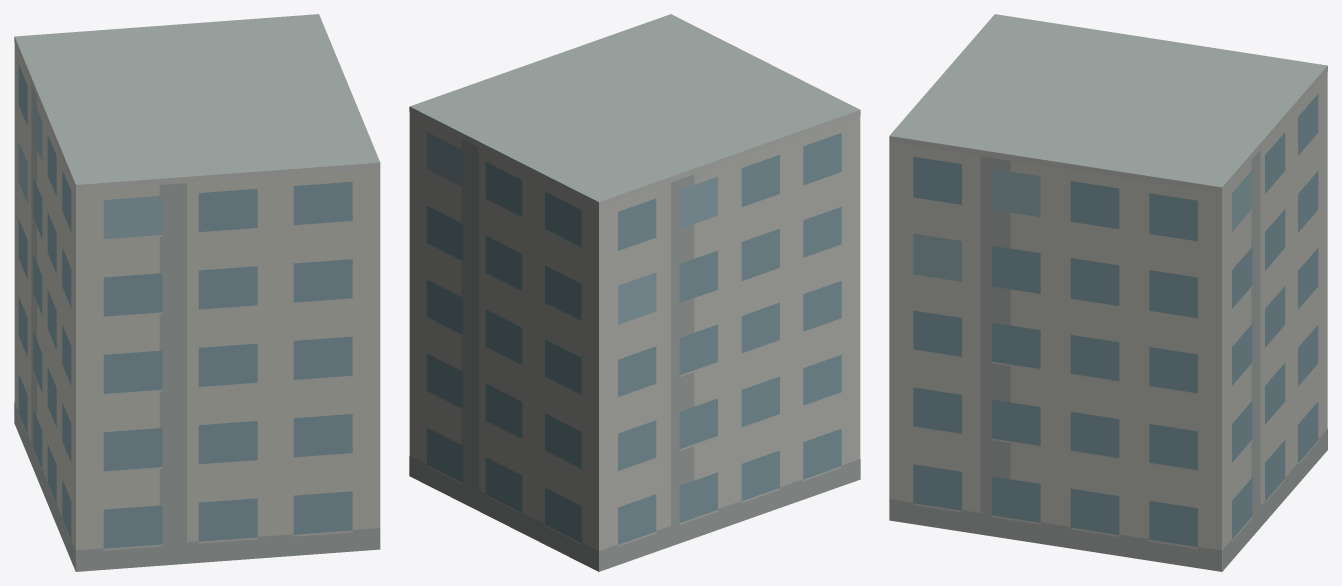
Rendered from residential-b3835e72-4b64-4249-a1ca-14eef06e14c6.glb.
3 renders of one model, left to right at view 1: azimuth 30°, elevation 25°; view 2: azimuth 150°, elevation 25°; view 3: azimuth 270°, elevation 25°, orthographic. The views are drawn at different scales.
Parts seen in each view (by area): view 1: residential-b3835e72-4b64-4249-a1ca-14eef06e14c6.tmp; view 2: residential-b3835e72-4b64-4249-a1ca-14eef06e14c6.tmp; view 3: residential-b3835e72-4b64-4249-a1ca-14eef06e14c6.tmp.
Boxes of the visible parts, x1,y1,x2,y2 form: residential-b3835e72-4b64-4249-a1ca-14eef06e14c6.tmp: (14,14,380,571); residential-b3835e72-4b64-4249-a1ca-14eef06e14c6.tmp: (409,14,860,571); residential-b3835e72-4b64-4249-a1ca-14eef06e14c6.tmp: (889,14,1327,571).
Size of the model in its own units: 14.76 by 15.25 by 15.77.
